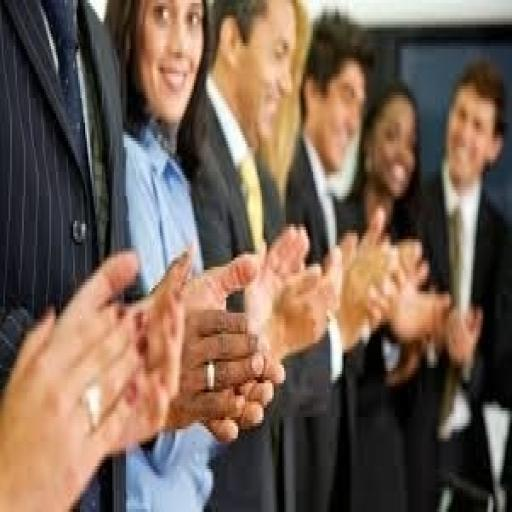clapping: (2, 0, 508, 509)
